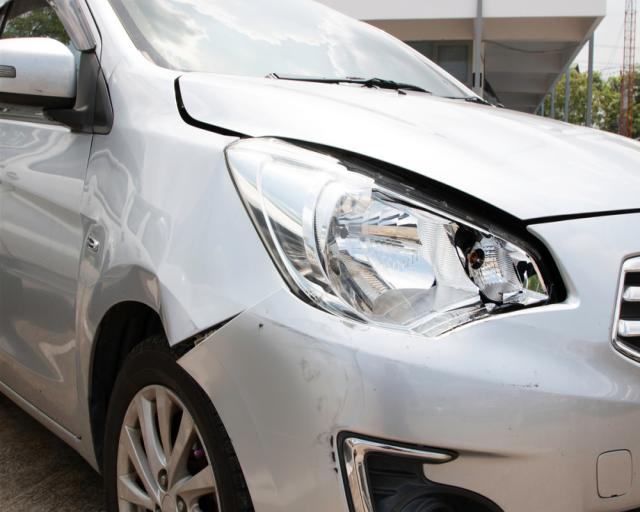dent: (86, 264, 170, 347)
lamp broken: (225, 137, 569, 336)
scratch: (262, 318, 375, 482)
